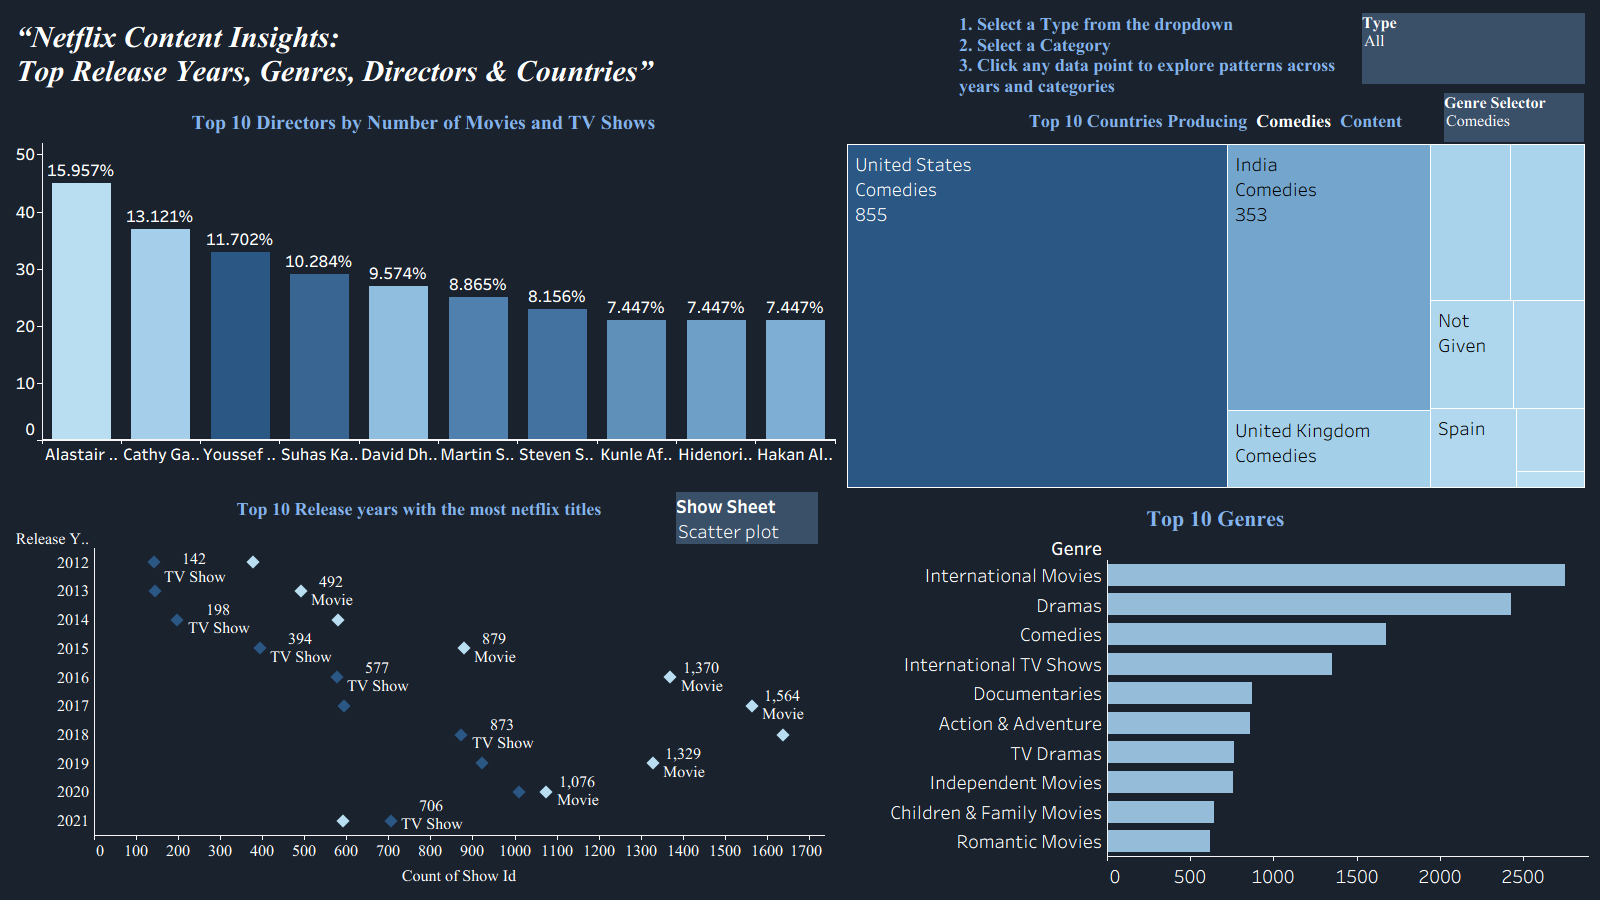

The dashboard page shown, as its layout file describes it:
{"tool":"tableau","page":{"name":"“Netflix Content Insights: Top Release Years, Genres, Directors & Countries”","canvas":[1600,900],"ordinal":1},"visuals":[{"type":"title","box":[8,8,1584,93]},{"type":"filter","title":"Top 10 Genres","param":"[federated.1j81kk51ucn4ly11w81na1bcm4qo].[none:type:nk]","box":[1362,13,223,71]},{"type":"text","box":[955,14,400,83]},{"type":"parameter","param":"[Parameters].[Parameter 2]","box":[1444,93,140,49]},{"type":"worksheet","title":"Top 10 Directors by Number of Movies and TV Shows","mark":"Automatic","rows":["show_id"],"cols":["director"],"box":[8,101,831,382.8]},{"type":"worksheet","title":"Top 10 Producing Genre Countries ","mark":"Automatic","box":[839,101,753,395.5]},{"type":"worksheet","title":"Top 10 Release Years","mark":"Bar","rows":["release_year"],"cols":["show_id"],"box":[8,483.8,831,408.2]},{"type":"parameter","param":"[Parameters].[Parameter 1]","box":[676,492,142,52]},{"type":"worksheet","title":"Top 10 Release years with the most netflix titles scatter plot","mark":"Shape","rows":["release_year"],"cols":["show_id"],"box":[14,493,810,399]},{"type":"worksheet","title":"Top 10 Genres","mark":"Bar","rows":["Genre"],"cols":["show_id"],"box":[839,496.5,753,395.5]}]}

Visuals, with their boxes in screenshot pixels (x1, y1, x2, y2), scaled from the page's 1600x900 canvas onto the 1600x900 screenshot:
title: pyautogui.locateOnScreen(8, 8, 1592, 101)
"Top 10 Genres" filter: pyautogui.locateOnScreen(1362, 13, 1585, 84)
text: pyautogui.locateOnScreen(955, 14, 1355, 97)
parameter: pyautogui.locateOnScreen(1444, 93, 1584, 142)
"Top 10 Directors by Number of Movies and TV Shows" worksheet: pyautogui.locateOnScreen(8, 101, 839, 484)
"Top 10 Producing Genre Countries " worksheet: pyautogui.locateOnScreen(839, 101, 1592, 496)
"Top 10 Release Years" worksheet (Bar marks): pyautogui.locateOnScreen(8, 484, 839, 892)
parameter: pyautogui.locateOnScreen(676, 492, 818, 544)
"Top 10 Release years with the most netflix titles scatter plot" worksheet (Shape marks): pyautogui.locateOnScreen(14, 493, 824, 892)
"Top 10 Genres" worksheet (Bar marks): pyautogui.locateOnScreen(839, 496, 1592, 892)
